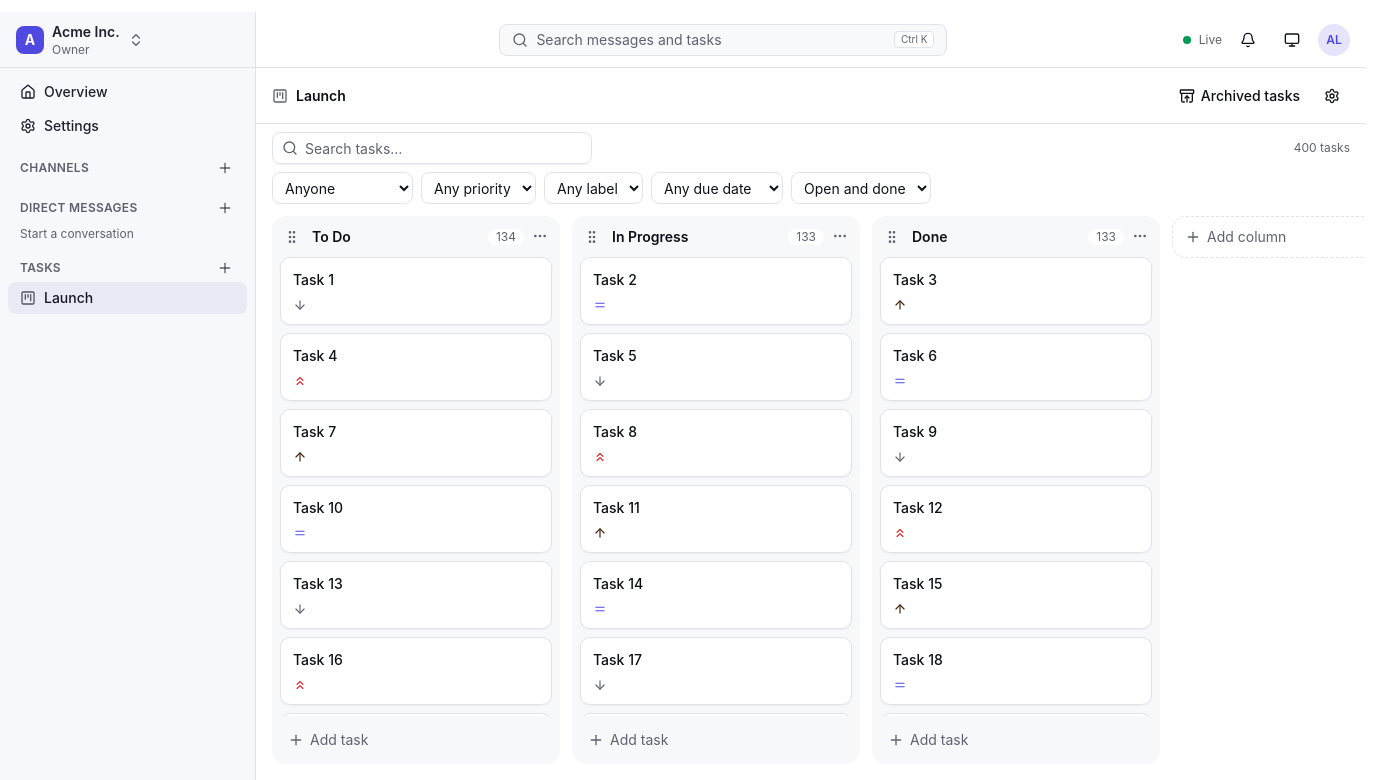
Test: large boards › renders 400 tasks, filters them and applies realtime updates without refetching
Expected: the heading "Launch" is shown, [296, 86, 346, 106]
Expected: the text "400 tasks" is shown, [1294, 140, 1350, 156]
Select "Urgent" in the 2nd dropdown named "Priority" at x=478, y=188, box [421, 172, 536, 204]
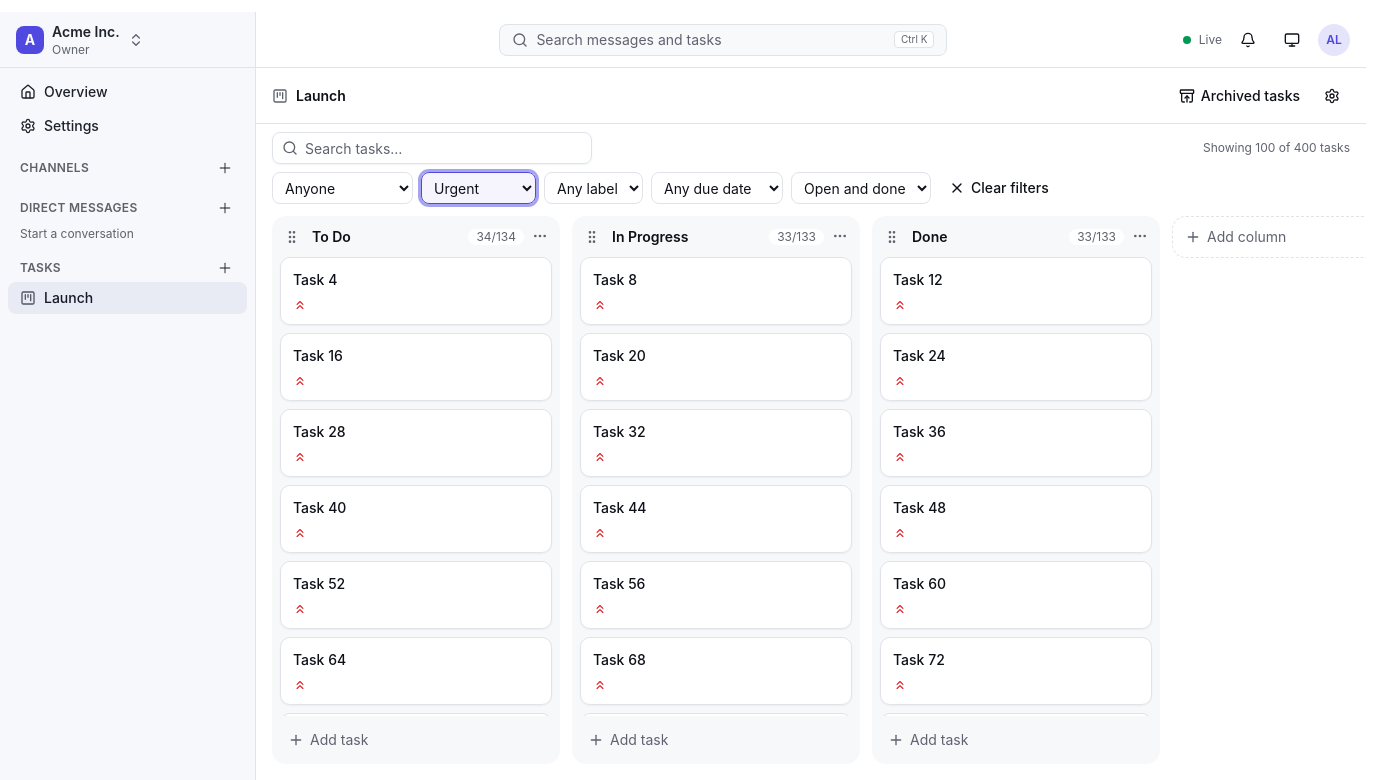
Expected: the text "Showing 100 of 400 tasks" is shown, [1203, 140, 1350, 156]
Click the button "Clear filters".
click(999, 188)  # box [939, 172, 1059, 204]
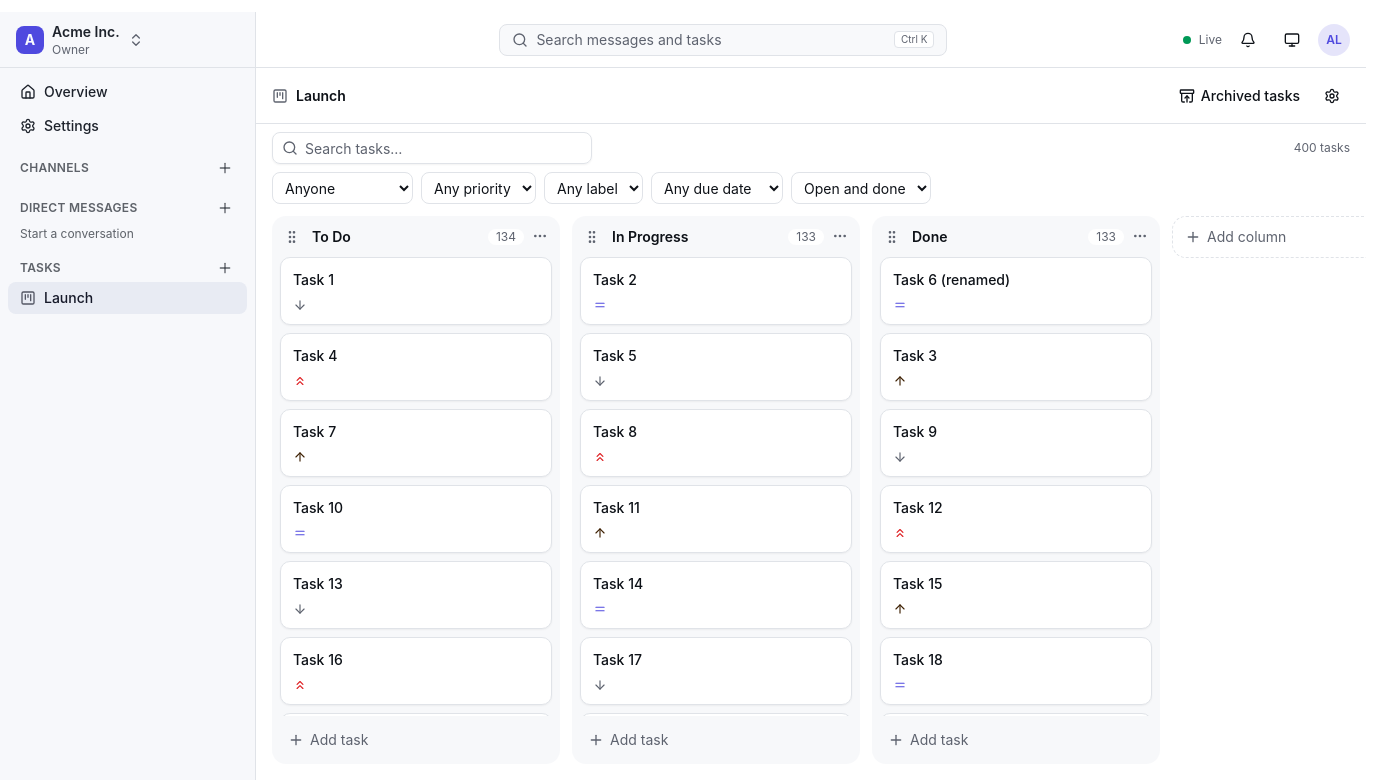
Expected: the button "Task 6 (renamed)" is shown, [880, 257, 1152, 325]
